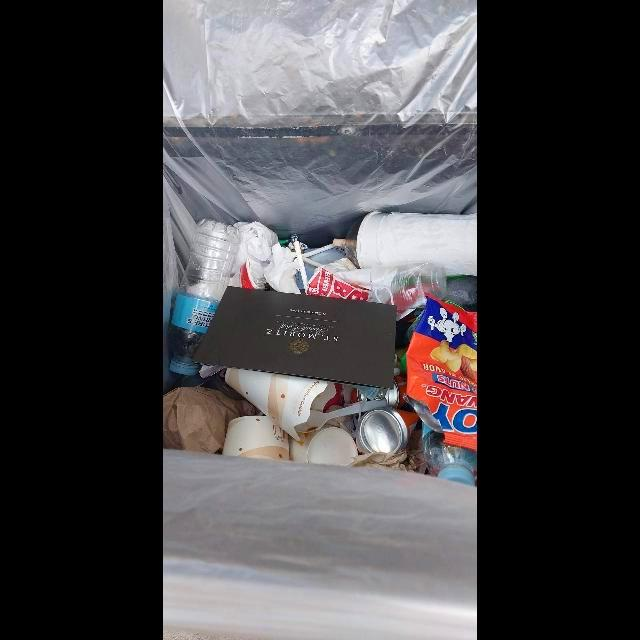aluminum: (356, 407, 419, 454)
cardboard: (192, 286, 397, 389), (224, 368, 337, 443), (222, 416, 292, 463)
food_wrapper: (406, 292, 477, 453)
paper: (163, 387, 252, 455)
plastic_bottle: (170, 219, 239, 376), (422, 424, 477, 487)
